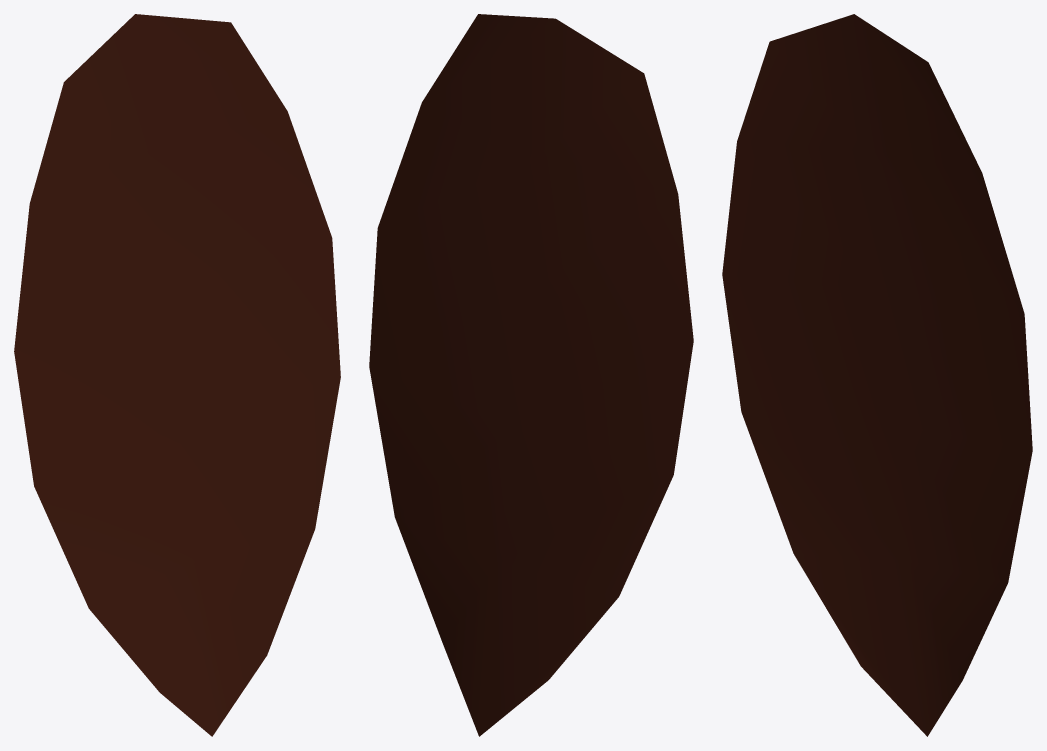
File: rooster_feather_flight_tertiary_044.obj
3 renders of one model, left to right at view 1: azimuth 30°, elevation 25°; view 2: azimuth 150°, elevation 25°; view 3: azimuth 330°, elevation 25°, orthographic. The views are drawn at different scales.
Parts seen in each view (by area): view 1: feather_flight_tertiary_044; view 2: feather_flight_tertiary_044; view 3: feather_flight_tertiary_044.
Part boxes in pixels (box(x1,y1,x2,y2)): feather_flight_tertiary_044: box(14, 14, 340, 736); feather_flight_tertiary_044: box(369, 14, 693, 736); feather_flight_tertiary_044: box(722, 14, 1032, 736).
Bounding box in the file's own units: 0.0106 × 0.023 × 0.000509.
